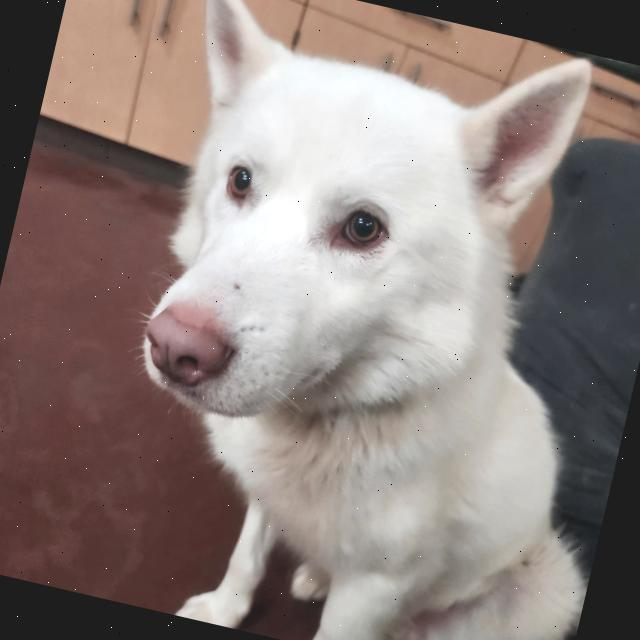siberian_husky_dog: (56, 0, 621, 522)
